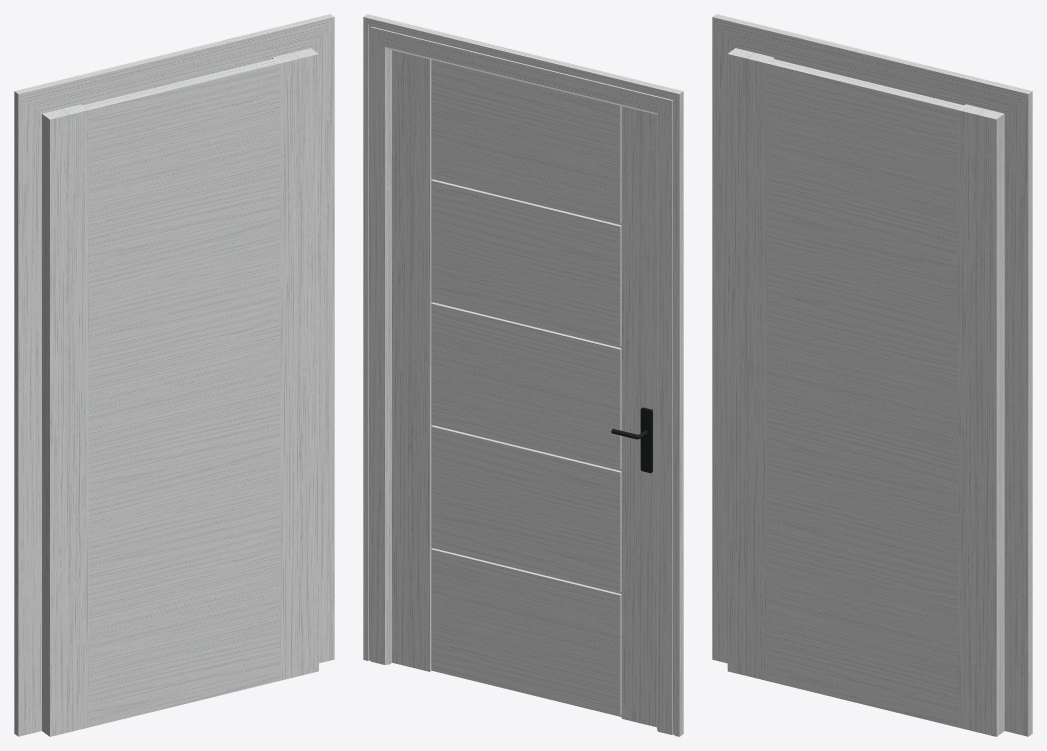
File: door.glb
3 views of the same model, side by side, from view 1: azimuth 30°, elevation 25°; view 2: azimuth 150°, elevation 25°; view 3: azimuth 330°, elevation 25° (orthographic).
Visible parts, largest first — view 1: Box001, Group_130_, Group_1203, Group_1202; view 2: Box001, Group_130_, Group_1202, Group_1203, plancha01; view 3: Box001, Group_130_, Group_1202, Group_1203.
Boxes of the visible parts, left/top/right/bottom form: Box001: left=82, top=59, right=280, bottom=727; Group_130_: left=14, top=14, right=334, bottom=736; Group_1203: left=42, top=104, right=88, bottom=736; Group_1202: left=272, top=48, right=318, bottom=680; Box001: left=431, top=60, right=621, bottom=716; Group_130_: left=363, top=14, right=683, bottom=736; Group_1202: left=392, top=50, right=431, bottom=671; Group_1203: left=621, top=106, right=656, bottom=727; plancha01: left=640, top=407, right=652, bottom=473; Box001: left=766, top=58, right=963, bottom=727; Group_130_: left=712, top=14, right=1032, bottom=736; Group_1202: left=958, top=104, right=1004, bottom=736; Group_1203: left=727, top=48, right=774, bottom=680.
Size of the model in its own units: 1.08 by 2.09 by 0.1058.
2 materials, 1 textured.
